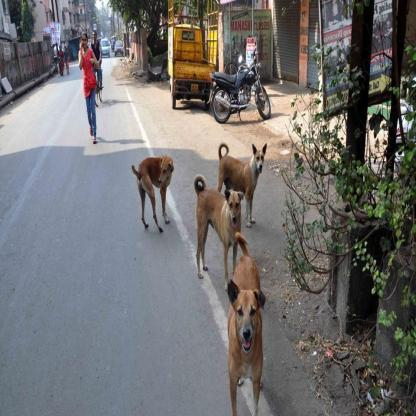dog: (224, 249, 266, 416), (193, 161, 245, 272), (219, 124, 264, 228), (130, 137, 174, 232)
